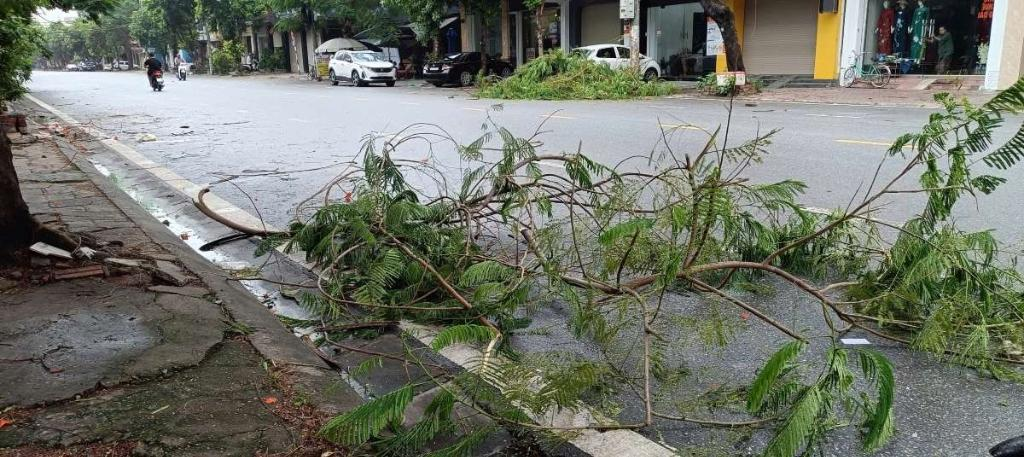ROAD_OBSTACLE: (214, 160, 1024, 457)
